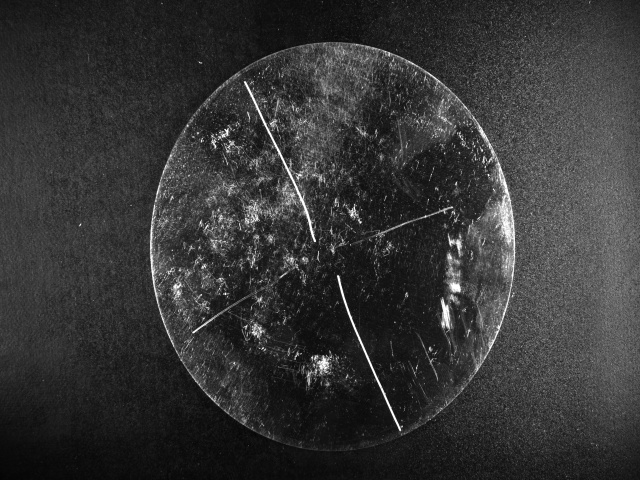ca_shang: (244, 82, 320, 246), (334, 269, 405, 432), (193, 260, 305, 334), (329, 202, 456, 251)
